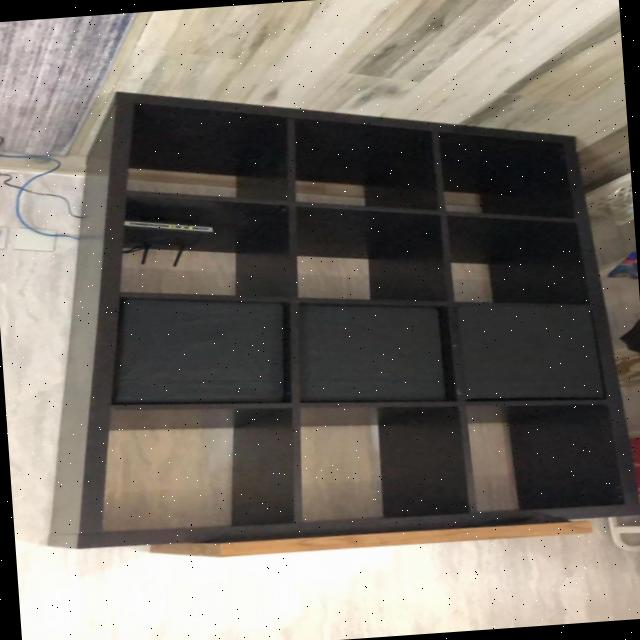Shelf: (11, 46, 640, 568)
